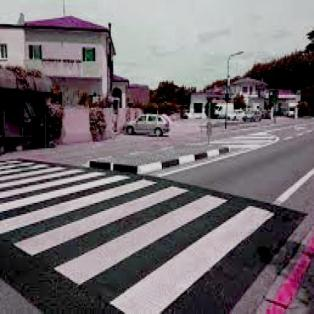Paso de Cebra: (11, 182, 267, 289)
